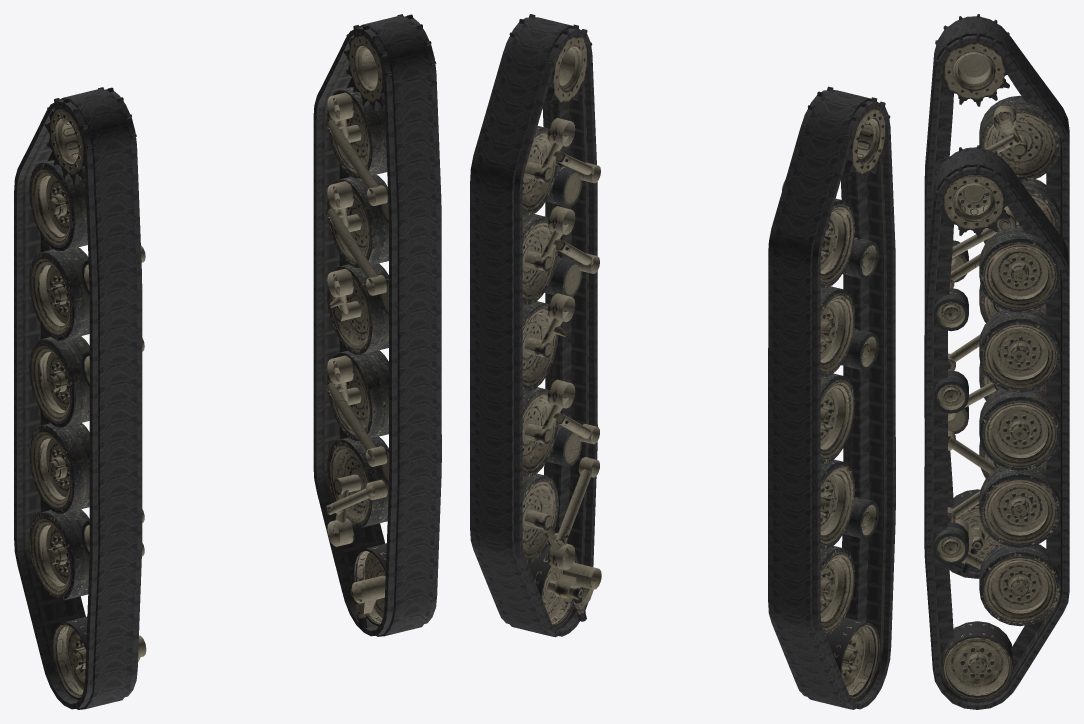
File: Chassis.glb
3 views of the same model, side by side, from view 1: azimuth 30°, elevation 25°; view 2: azimuth 150°, elevation 25°; view 3: azimuth 270°, elevation 25° (orthographic). The views are drawn at different scales.
Parts seen in each view (by area): view 1: set_0_group_0, set_1_group_0, set_3_group_0, set_2_group_0; view 2: set_0_group_0, set_1_group_0, set_3_group_0, set_2_group_0; view 3: set_3_group_0, set_1_group_0, set_2_group_0, set_0_group_0.
Boxes of the visible parts, box(x1,y1,x2,y2) form: set_0_group_0: box(14, 88, 142, 709); set_1_group_0: box(313, 15, 441, 636); set_3_group_0: box(326, 14, 436, 628); set_2_group_0: box(29, 87, 146, 699); set_0_group_0: box(768, 90, 895, 709); set_1_group_0: box(470, 17, 597, 637); set_3_group_0: box(503, 14, 601, 627); set_2_group_0: box(782, 86, 890, 700); set_3_group_0: box(933, 145, 1060, 700); set_1_group_0: box(924, 147, 1069, 709); set_2_group_0: box(934, 14, 1060, 573); set_0_group_0: box(924, 16, 1069, 578).
Bounding box in the file's own units: 2.88 × 4.76 × 1.15.
Materials: 4 (4 with a texture image).
